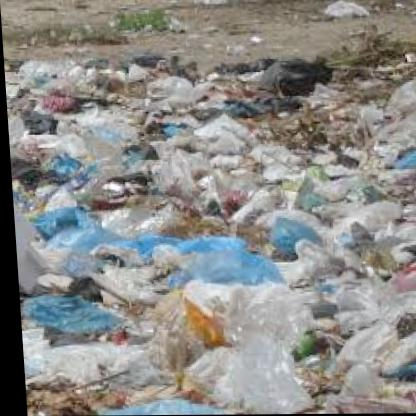Plastic: (4, 70, 416, 416)
